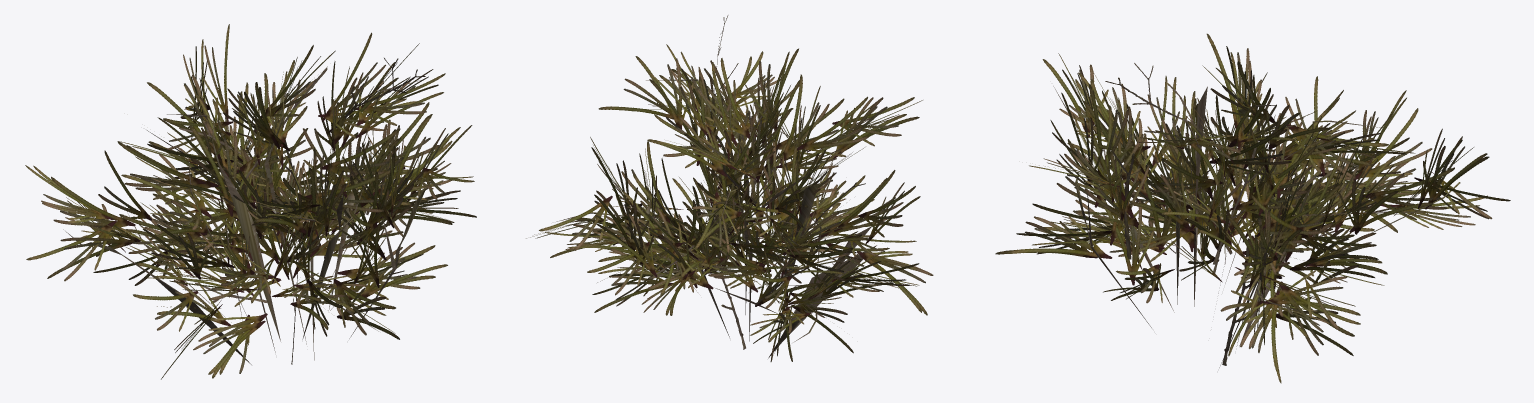
File: bush_dry_a.glb
The picture shows the model from 3 angles, left to right: view 1: azimuth 30°, elevation 25°; view 2: azimuth 150°, elevation 25°; view 3: azimuth 270°, elevation 25°; orthographic projection. The views are drawn at different scales.
Visible parts, largest first — view 1: bush_dry_a; view 2: bush_dry_a; view 3: bush_dry_a.
Part boxes in pixels (x1,y1,x2,y2): bush_dry_a: (25, 24, 476, 379); bush_dry_a: (526, 15, 933, 361); bush_dry_a: (995, 33, 1510, 383).
Size of the model in its own units: 0.6754 by 0.5114 by 0.7228.
2 materials, 2 textured.
